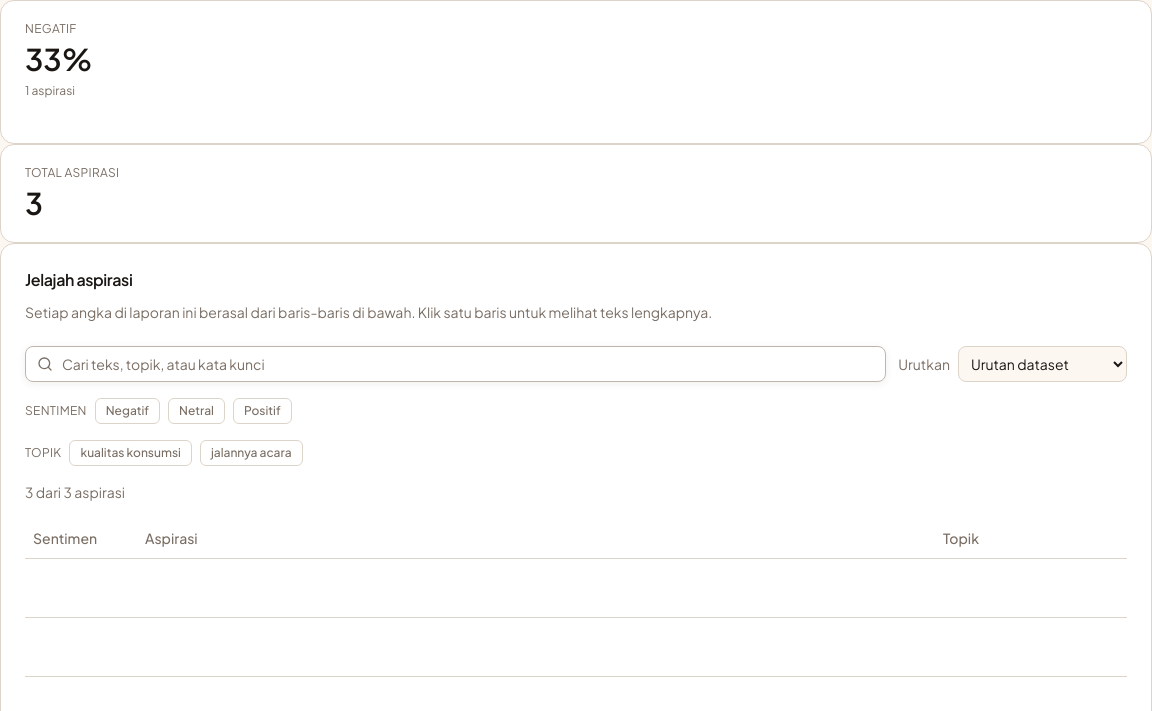
Scenario: evidence-first wiring › clears the filter and restores every row
Click the button "Negatif 33% 1 aspirasi": (576, 72) [0,0,1151,144]
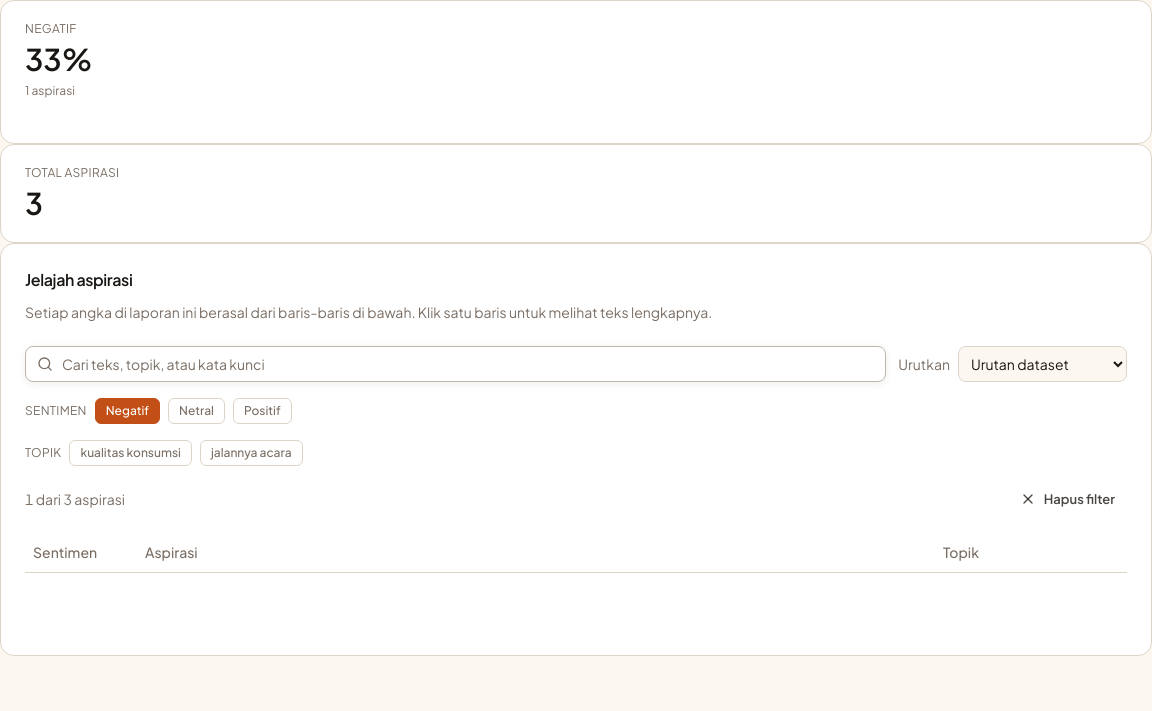
Expected: the text "1 dari 3 aspirasi" is shown, [25,489,125,509]
Click the button "Hapus filter": (1067, 499) [1008,482,1127,516]
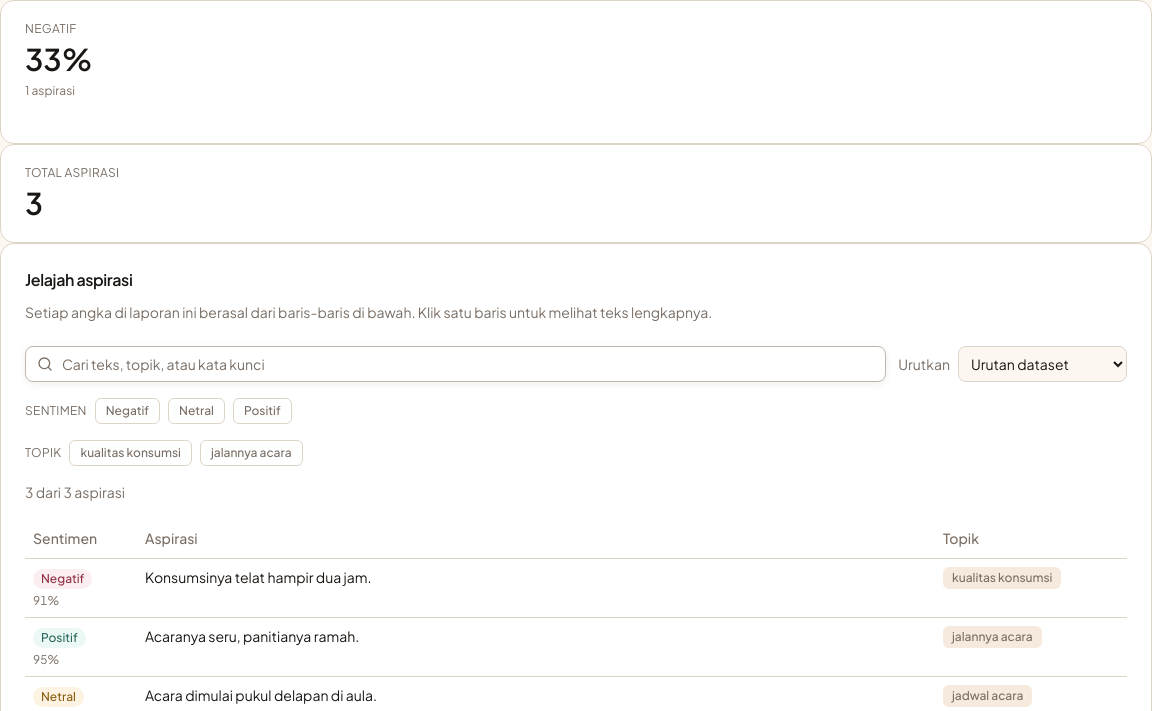
Expected: the text "3 dari 3 aspirasi" is shown, [25,482,125,502]
